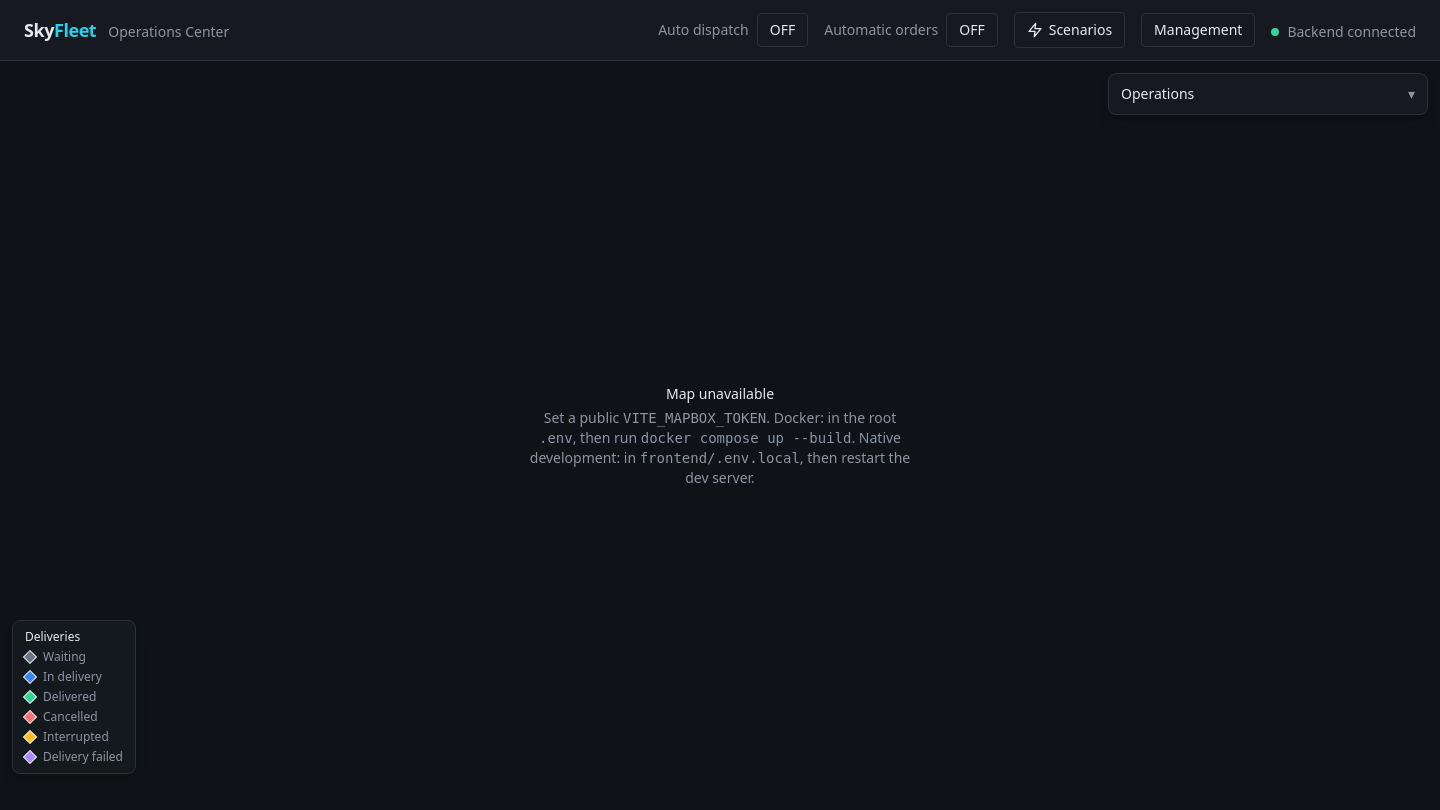
Scenario: App Random incidents (Feature 021D-2) › polls the Random incidents status once, whether or not the menu is open
Later steps or results of the test are not shown.
What coordinates should you click on to do the following:
click the button "Scenarios"
I would click on:
 (1069, 30)
Its box is left=1014, top=12, right=1125, bottom=48.
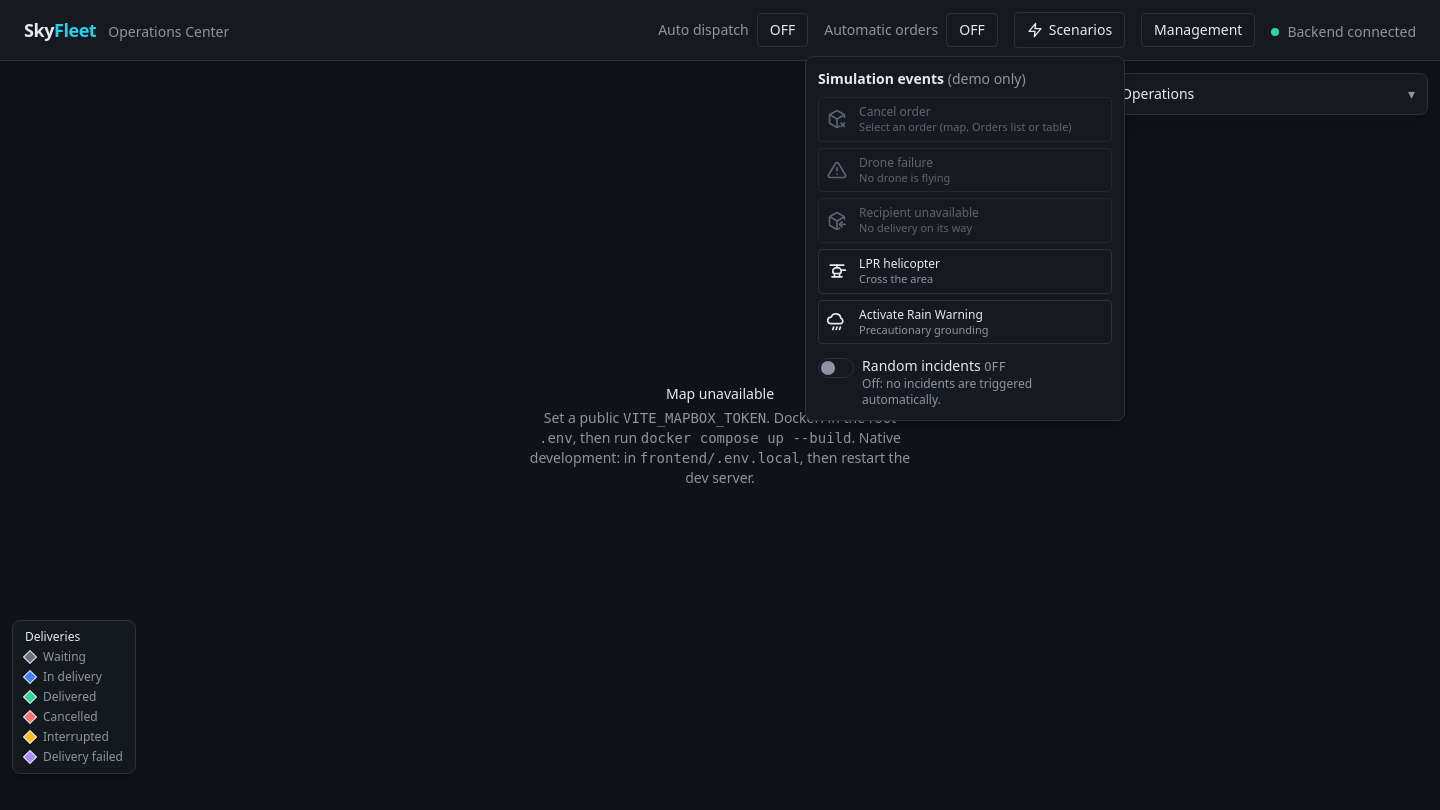
Now the switch named "Random incidents" is shown, box left=818, top=358, right=854, bottom=378
